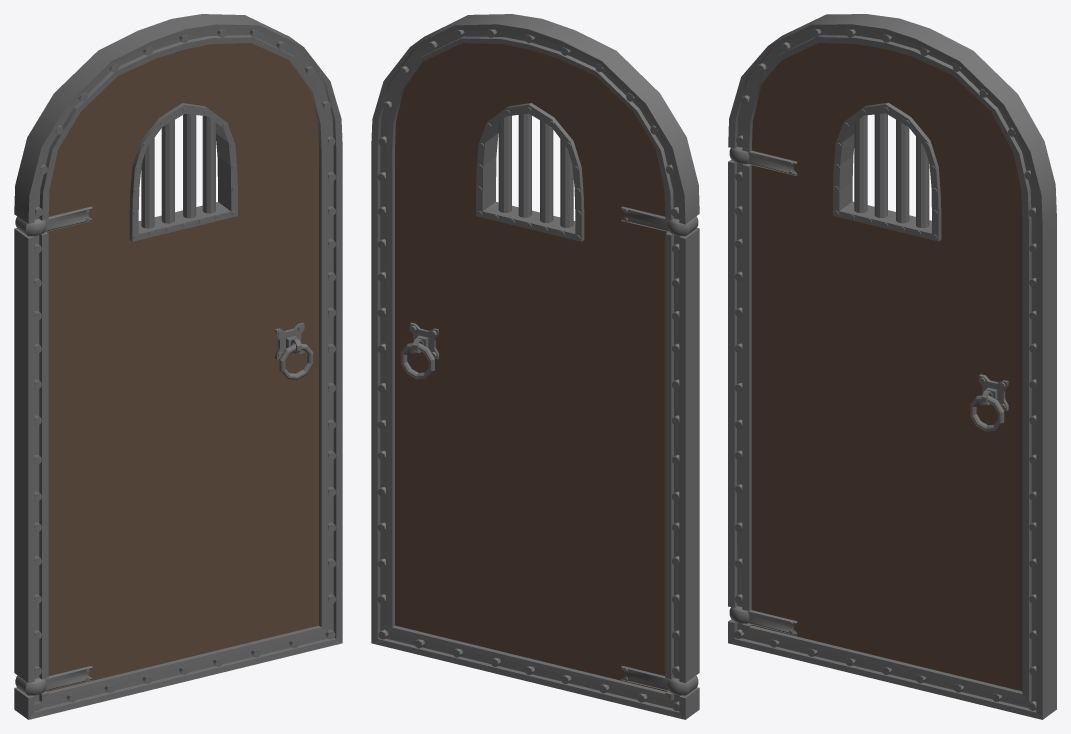
File: Level_Door_Arched_low.fbx
3 views of the same model, side by side, from view 1: azimuth 30°, elevation 25°; view 2: azimuth 150°, elevation 25°; view 3: azimuth 330°, elevation 25° (orthographic).
Visible parts, largest first — view 1: Level_Door_Arched_low; view 2: Level_Door_Arched_low; view 3: Level_Door_Arched_low.
Part boxes in pixels (x1,y1,x2,y2): Level_Door_Arched_low: (14,14,342,719); Level_Door_Arched_low: (371,14,699,719); Level_Door_Arched_low: (728,14,1056,719).
Bounding box in the file's own units: 108 × 215 × 17.34.
